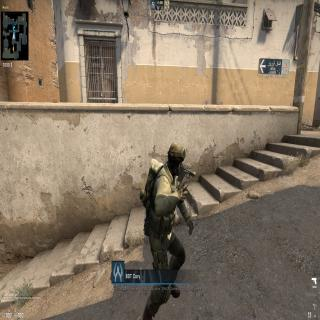CT-Head: (168, 140, 186, 178)
